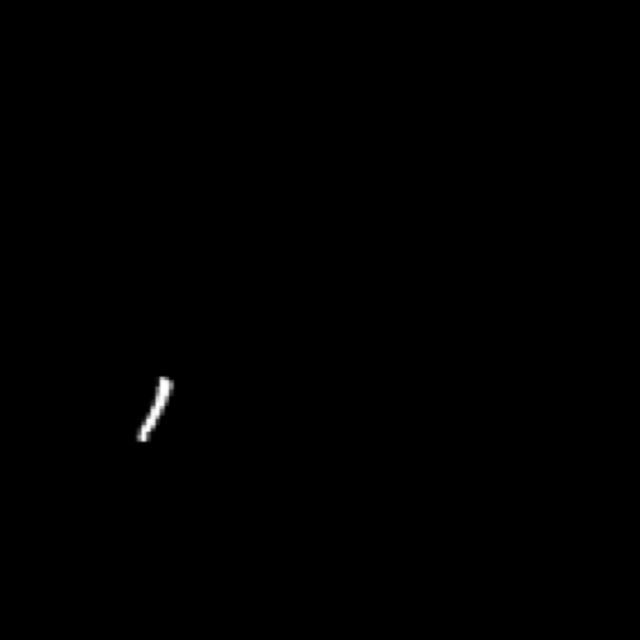one -1-: (116, 364, 193, 456)
